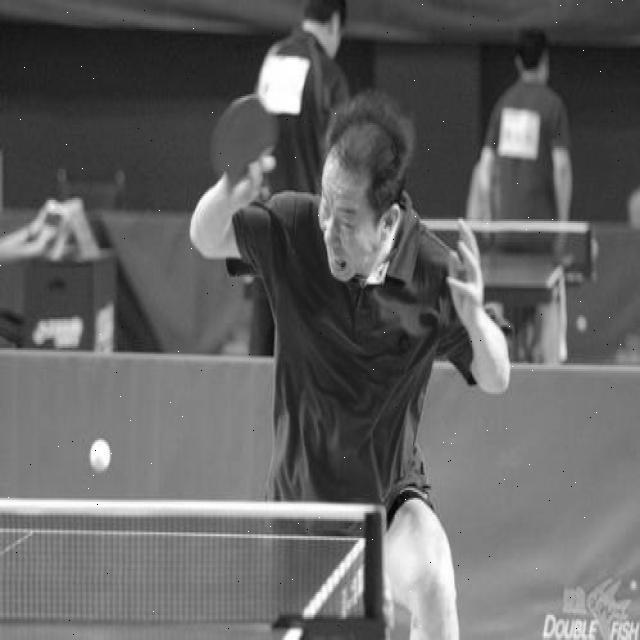ping-pong-ball: (89, 436, 112, 474)
